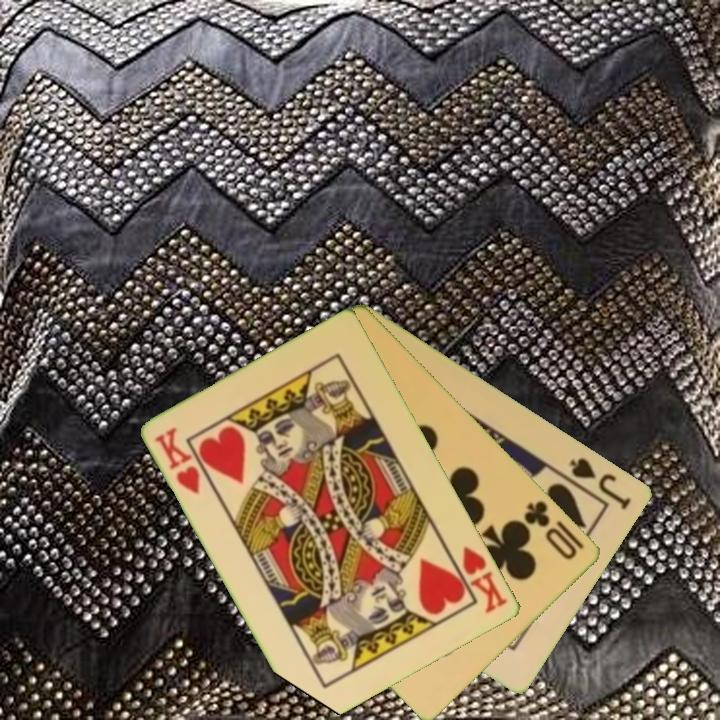10c: (520, 496, 581, 563)
Js: (567, 454, 635, 513)
Kh: (446, 543, 511, 617), (151, 423, 204, 497)
